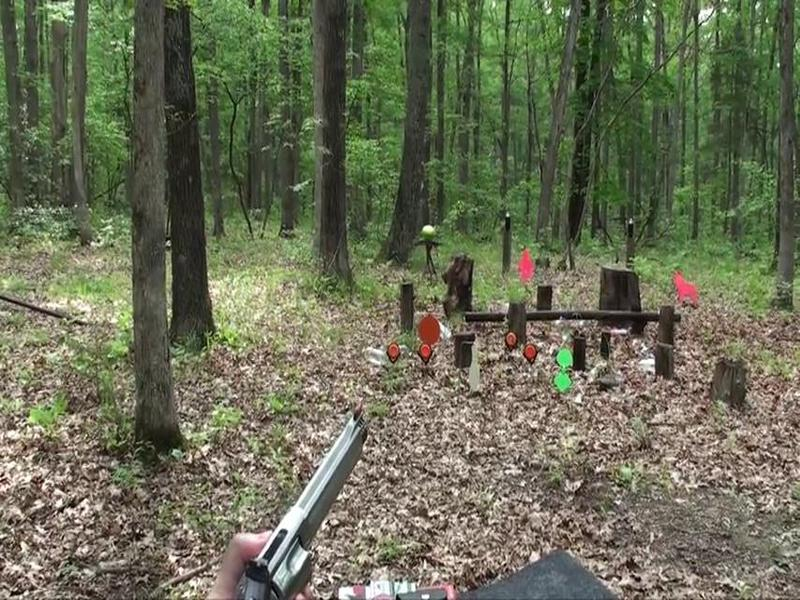Revolver: (227, 403, 370, 600)
